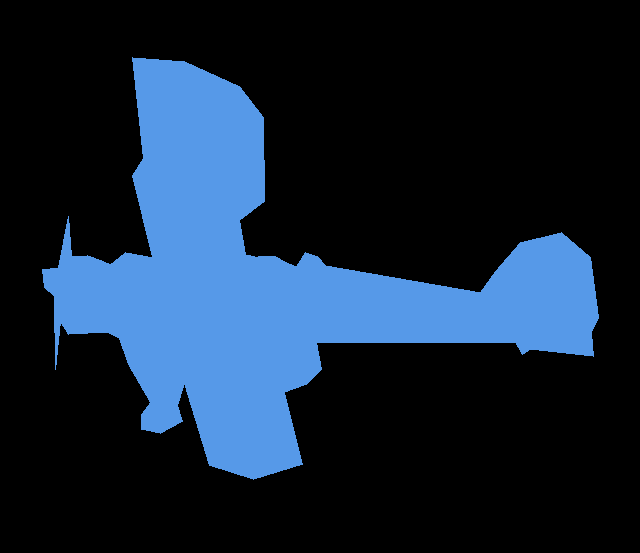Airplane: (42, 57, 599, 479)
